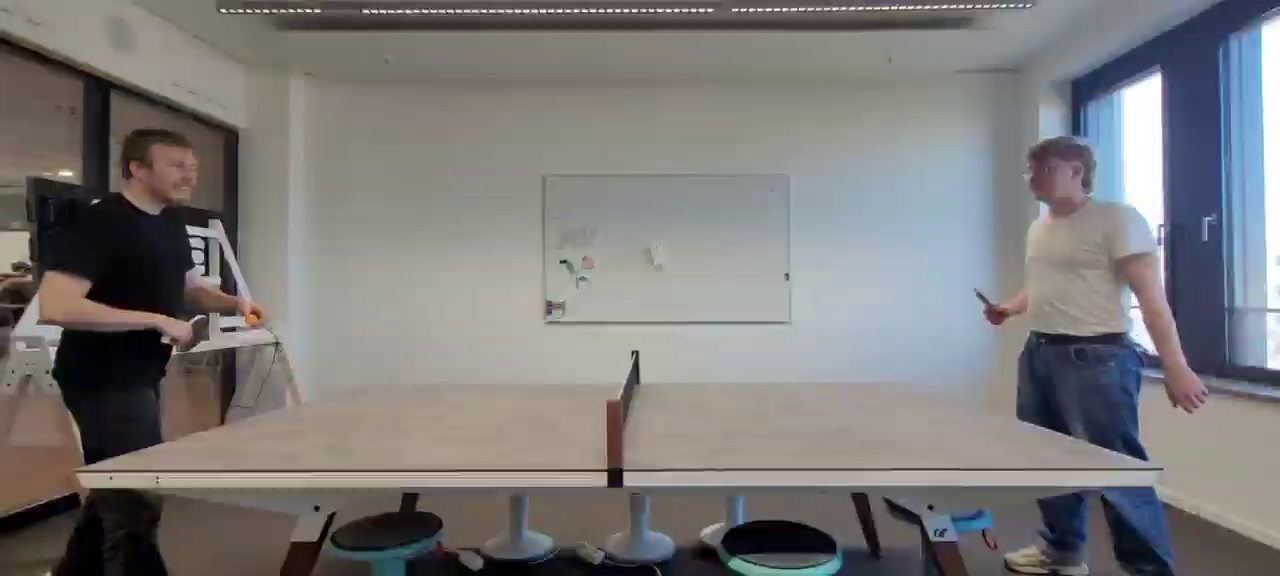plate: (73, 383, 1163, 470)
racket: (161, 315, 207, 352), (972, 287, 1000, 318)
ttball: (245, 314, 257, 325)
